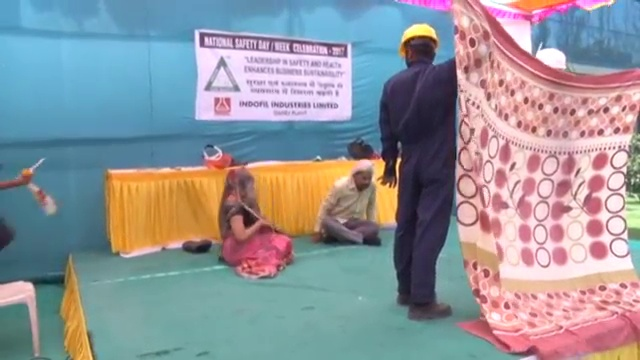helmet: (399, 24, 438, 53), (534, 46, 568, 70)
helmet_off: (353, 161, 374, 191), (225, 168, 251, 190)
helmet_on: (398, 23, 440, 67)
person: (377, 24, 461, 320), (218, 167, 295, 282), (313, 161, 384, 250)
